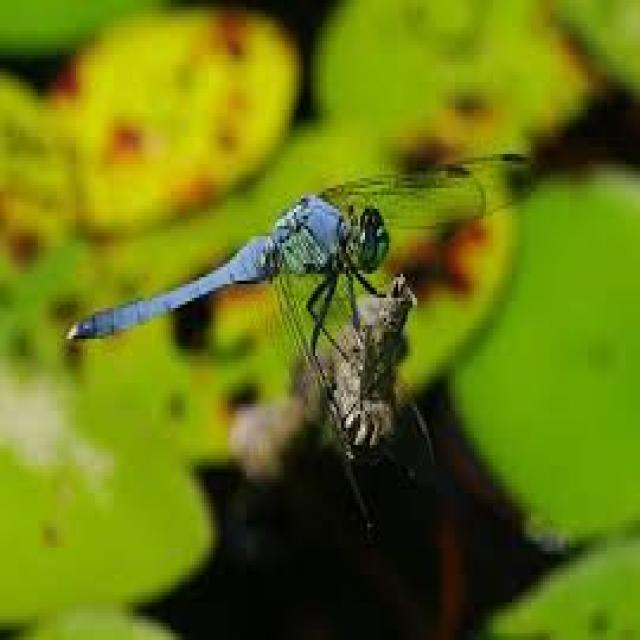dragonfly: (66, 154, 529, 356)
